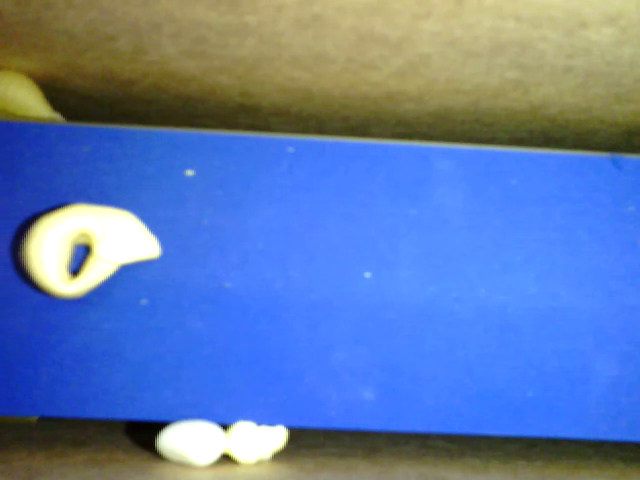shell: (1, 68, 68, 124)
tortellini: (15, 199, 162, 297)
